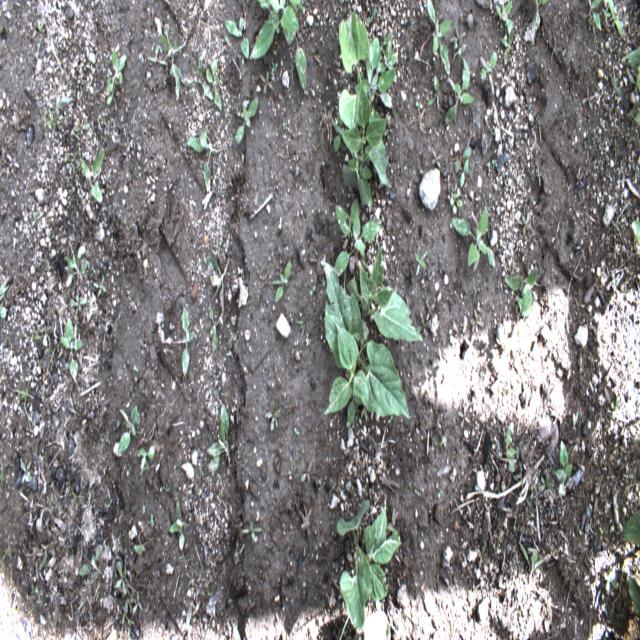crop: (320, 260, 410, 420), (336, 498, 402, 629), (345, 244, 424, 343), (342, 85, 388, 186), (337, 10, 370, 128), (362, 608, 392, 640), (626, 46, 640, 93), (621, 509, 639, 545), (628, 574, 640, 624), (632, 219, 640, 246)
weed: (252, 0, 308, 92), (332, 198, 384, 278), (355, 35, 397, 108), (452, 206, 496, 270), (353, 54, 381, 142), (187, 123, 222, 193), (159, 22, 188, 102), (426, 1, 452, 74), (206, 402, 232, 474), (444, 64, 474, 126), (342, 148, 372, 208), (171, 307, 196, 374), (178, 53, 214, 99), (503, 268, 537, 316), (59, 316, 83, 381), (12, 379, 40, 428), (80, 148, 104, 203), (208, 256, 230, 314), (224, 15, 250, 63), (518, 541, 546, 584), (169, 500, 190, 554), (20, 322, 51, 357), (235, 97, 258, 144), (118, 404, 140, 453), (342, 371, 360, 430), (554, 439, 572, 497), (375, 30, 399, 73), (66, 132, 84, 187), (278, 0, 298, 47), (517, 286, 534, 339), (78, 542, 104, 576), (331, 106, 349, 155), (106, 49, 126, 93), (272, 260, 292, 304), (206, 58, 222, 112), (64, 244, 87, 280), (134, 513, 154, 554), (274, 0, 300, 31), (499, 427, 516, 474), (258, 0, 280, 33), (582, 0, 602, 36), (208, 304, 222, 354), (495, 1, 514, 36), (452, 38, 470, 73), (531, 0, 549, 34), (43, 98, 63, 128), (607, 0, 623, 37), (136, 444, 156, 471), (454, 146, 472, 176), (480, 51, 498, 80), (263, 397, 278, 431), (0, 274, 11, 320), (501, 28, 515, 64), (146, 43, 168, 65), (241, 520, 263, 542), (354, 389, 368, 422), (388, 508, 399, 549), (38, 541, 52, 572), (116, 560, 128, 596), (338, 612, 352, 640), (18, 458, 33, 484), (451, 20, 466, 46), (449, 187, 464, 213), (413, 250, 428, 276), (415, 316, 432, 338), (122, 599, 136, 625), (604, 566, 618, 592), (457, 404, 471, 430), (459, 156, 470, 189), (260, 70, 274, 95), (428, 74, 439, 105), (548, 32, 558, 66), (441, 80, 454, 106), (469, 312, 485, 333), (69, 294, 87, 312), (610, 394, 622, 421), (233, 540, 245, 566), (583, 86, 596, 110), (539, 470, 553, 492), (300, 461, 313, 484), (1, 533, 12, 560), (132, 590, 144, 614), (610, 75, 622, 98), (74, 120, 91, 136), (93, 280, 107, 299), (626, 73, 638, 95), (185, 568, 196, 590), (425, 298, 435, 322), (522, 210, 531, 236), (477, 545, 487, 568), (106, 80, 115, 105), (30, 210, 44, 226), (621, 466, 633, 484), (440, 426, 450, 447), (366, 6, 377, 23), (382, 31, 393, 47), (604, 102, 613, 121), (432, 149, 441, 168), (572, 406, 579, 430), (490, 156, 499, 173), (284, 395, 292, 414), (296, 321, 306, 336), (36, 36, 42, 60), (273, 410, 281, 428), (178, 548, 186, 566), (536, 162, 542, 186), (449, 182, 458, 198), (575, 173, 584, 188), (350, 408, 359, 423), (632, 162, 639, 181), (436, 486, 444, 502), (0, 460, 4, 490), (625, 109, 637, 119), (591, 130, 598, 147), (100, 114, 108, 128), (308, 284, 316, 298), (625, 136, 633, 150), (415, 99, 423, 113), (318, 274, 326, 288), (530, 483, 536, 501), (386, 412, 394, 425), (293, 425, 300, 438), (602, 8, 611, 18), (271, 62, 279, 73), (532, 258, 538, 272), (38, 25, 46, 34), (282, 120, 288, 132), (164, 347, 174, 354), (636, 108, 640, 125), (414, 488, 421, 497), (598, 526, 603, 536), (313, 246, 318, 256), (514, 518, 517, 534), (170, 375, 173, 385)
